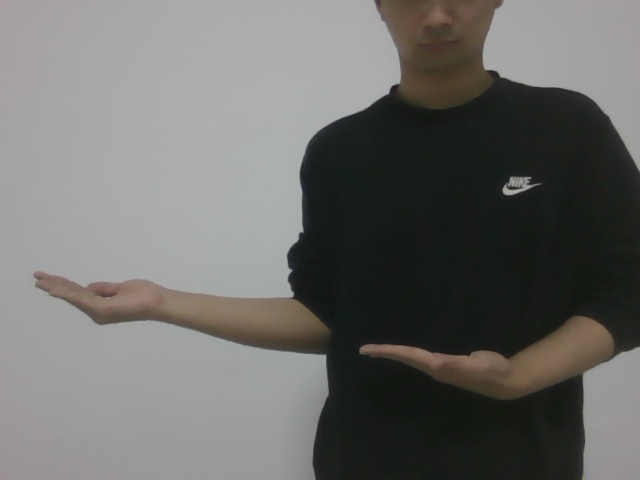please: (16, 252, 526, 413)
